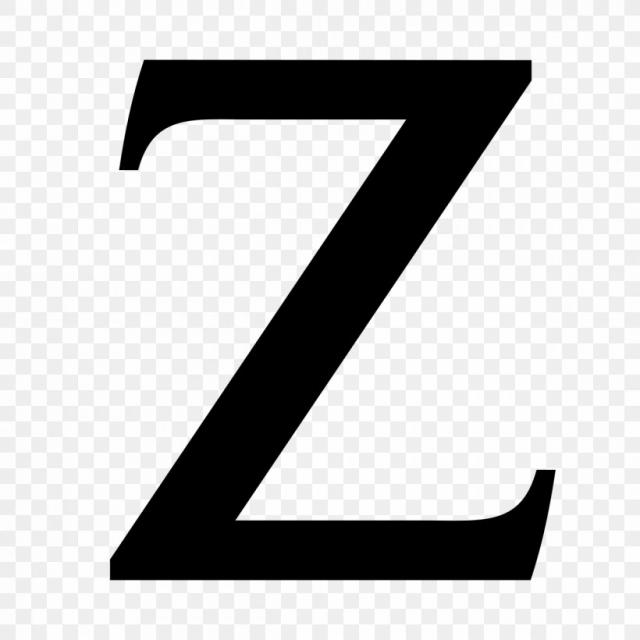Z: (64, 27, 578, 595)
